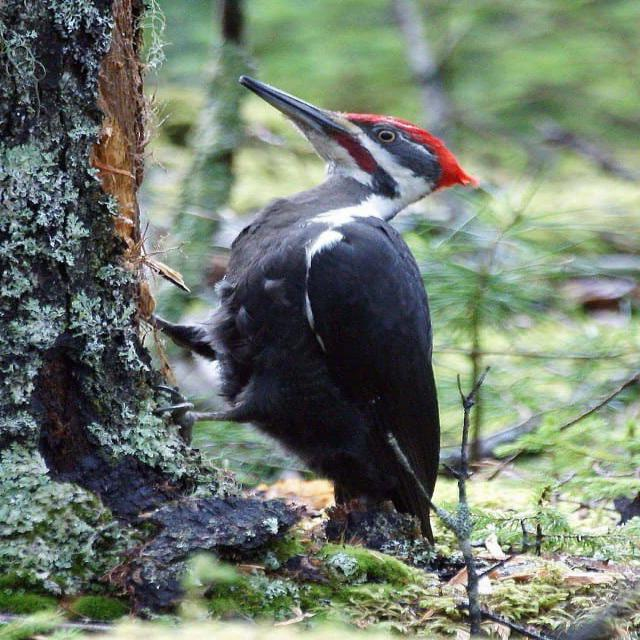woodpecker: (150, 77, 473, 540)
